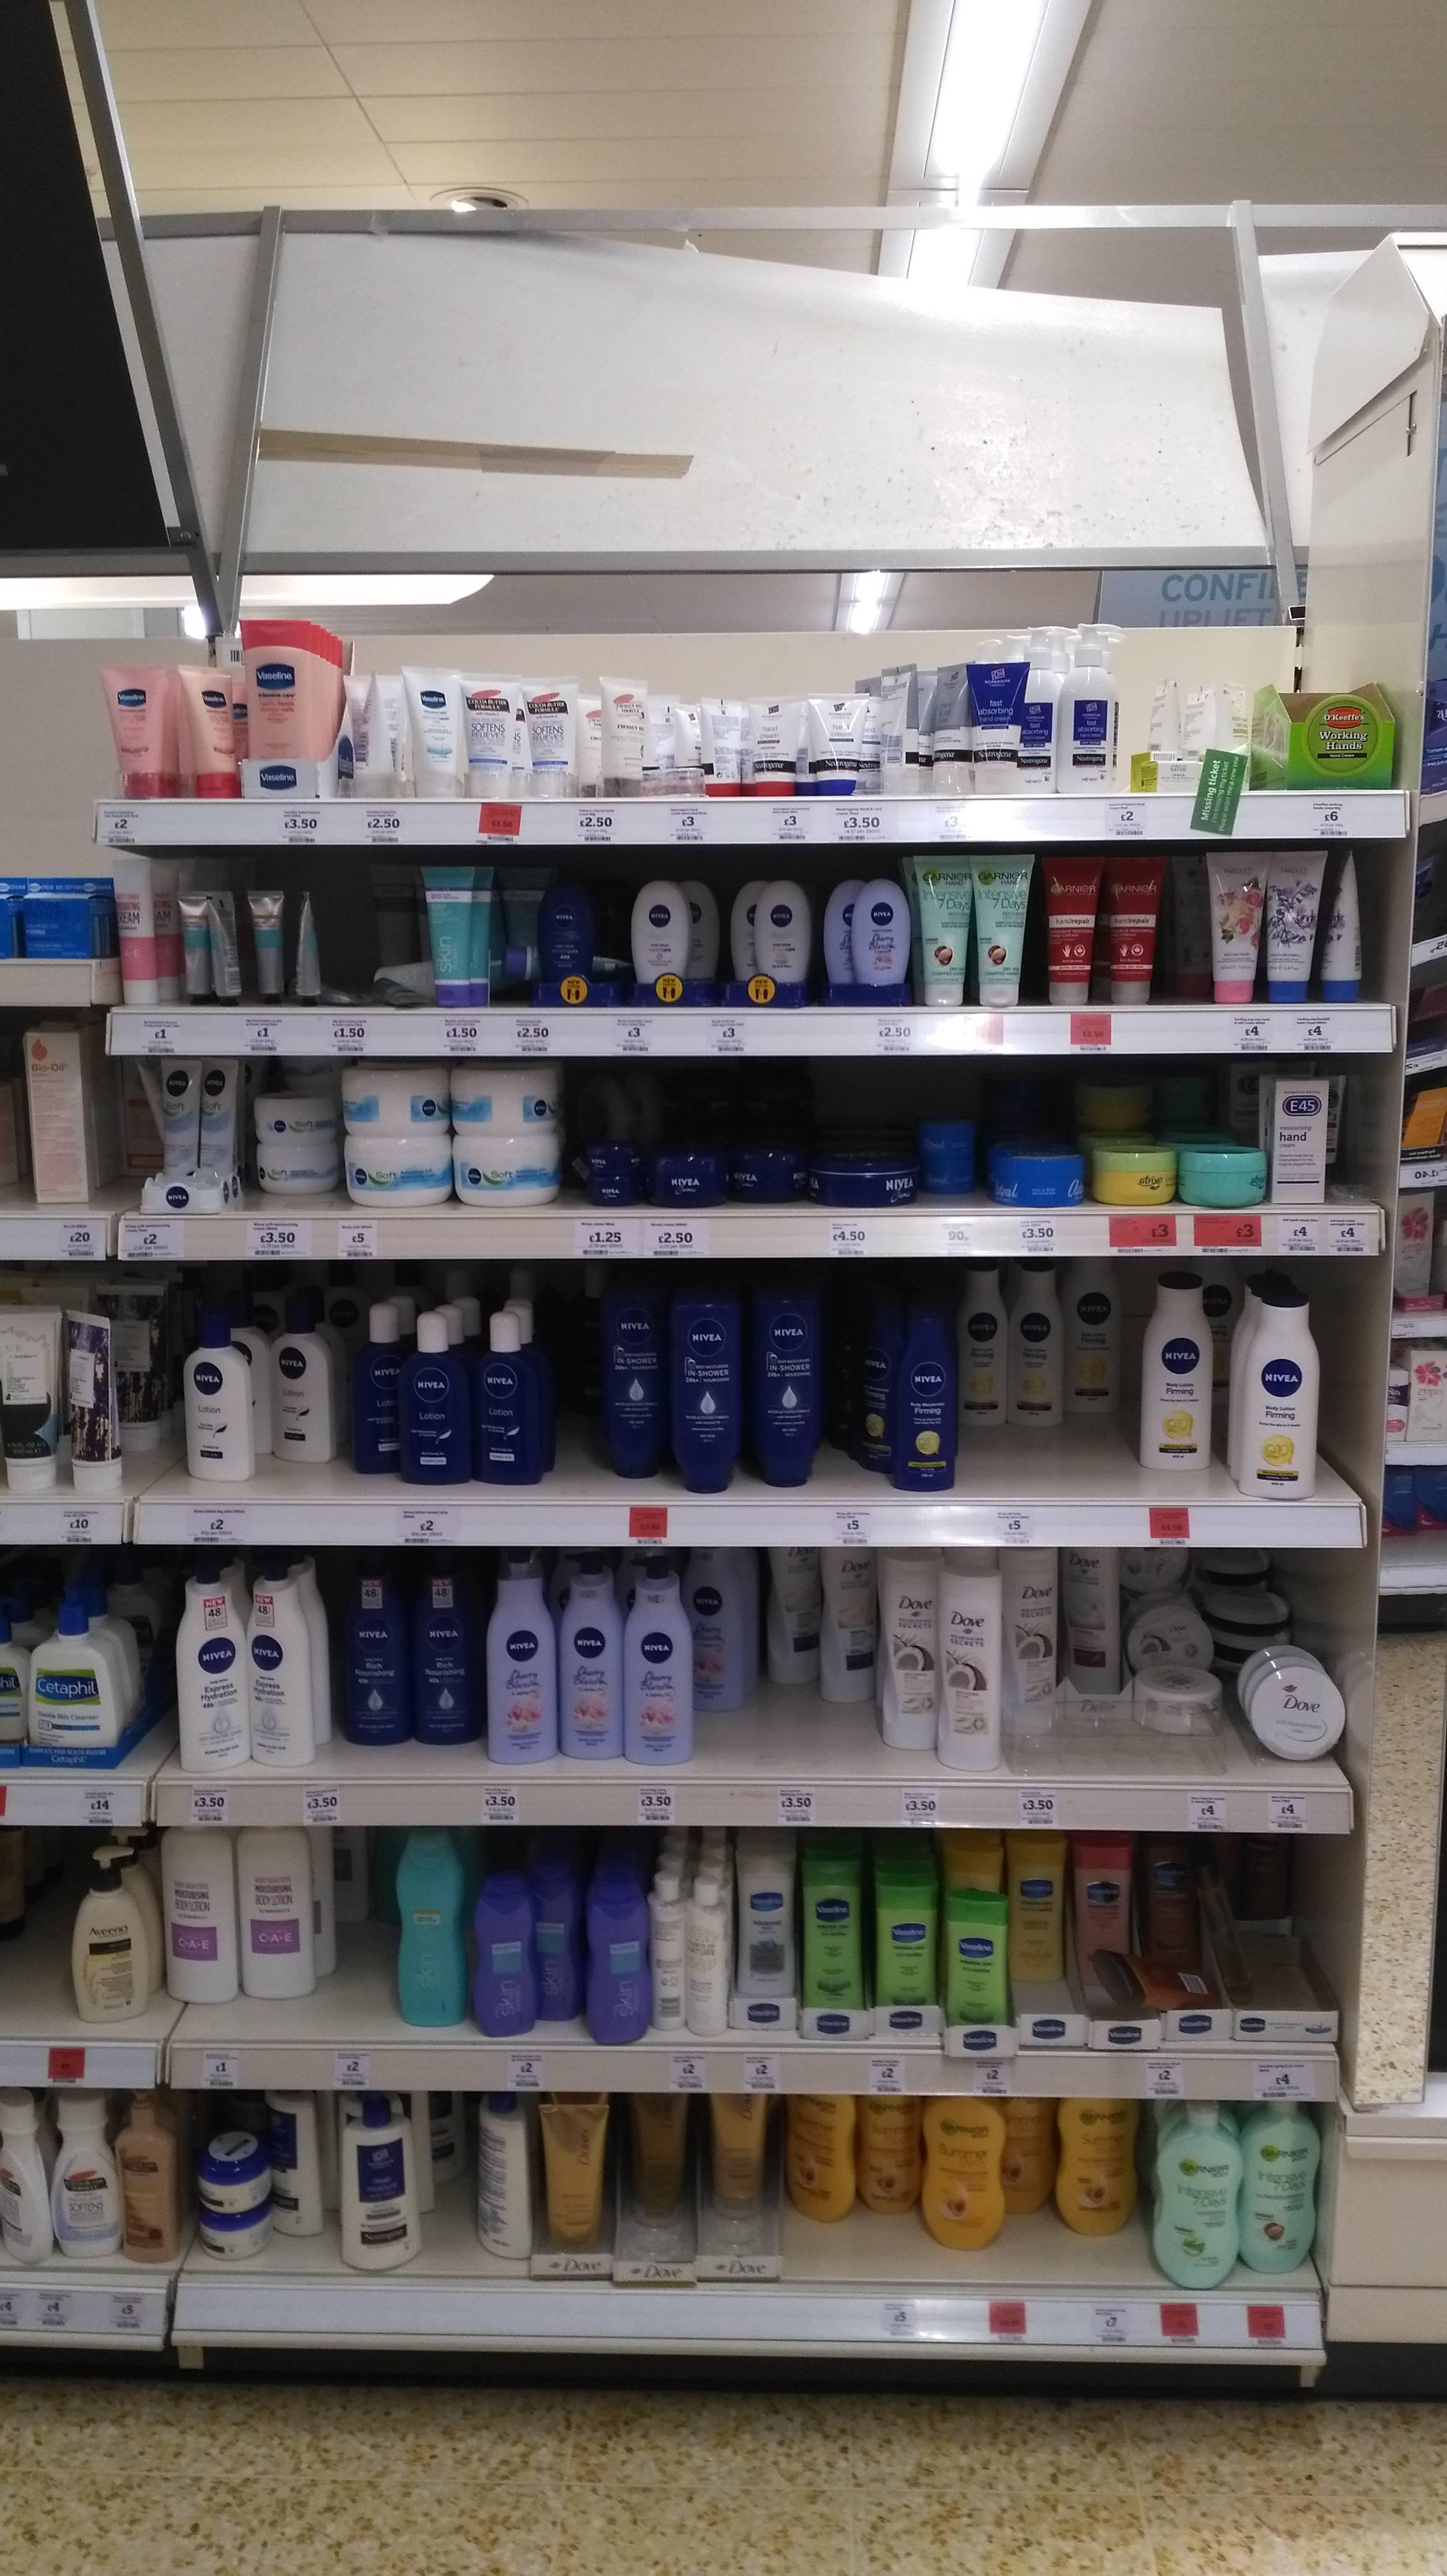misalignment: (469, 2089, 532, 2273), (1104, 1936, 1217, 2017), (874, 663, 923, 793), (338, 952, 432, 1012), (198, 897, 244, 1003), (508, 939, 628, 978), (294, 893, 324, 998)
